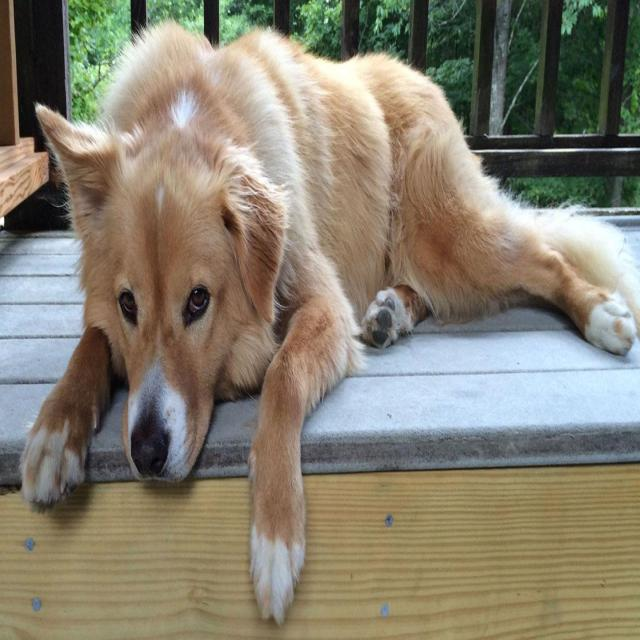Dog: (24, 55, 320, 598)
